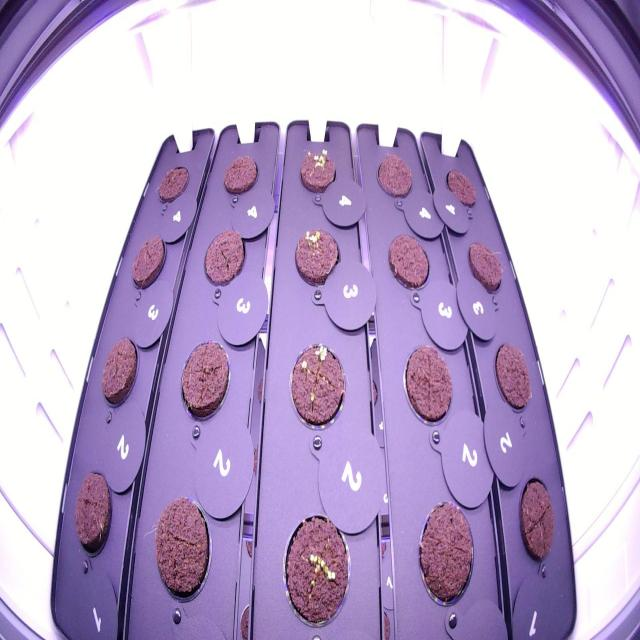germination: (276, 504, 356, 633), (285, 338, 350, 436), (289, 219, 344, 294), (294, 141, 339, 199)
pod: (412, 490, 480, 626), (151, 488, 216, 612), (172, 328, 235, 429), (397, 336, 457, 434), (68, 462, 119, 566), (514, 466, 558, 574), (94, 326, 142, 416), (488, 334, 537, 419), (196, 222, 248, 294), (382, 226, 433, 298), (125, 226, 172, 299), (461, 231, 506, 301), (371, 146, 417, 207), (152, 154, 193, 216), (217, 146, 262, 202), (441, 162, 481, 218)
